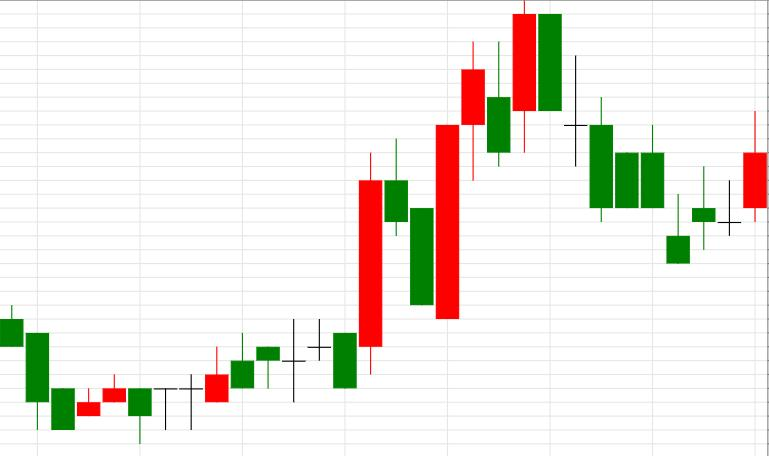inverse_hammer_rise: (539, 14, 690, 262)
